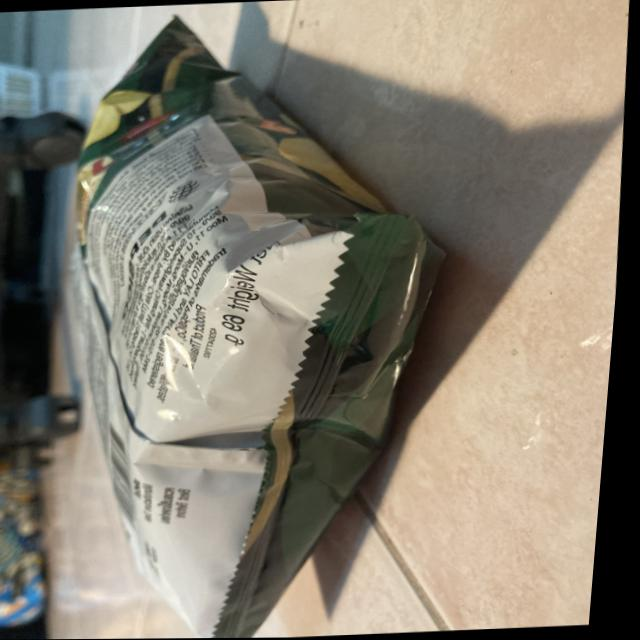Laygreen: (4, 0, 453, 640)
